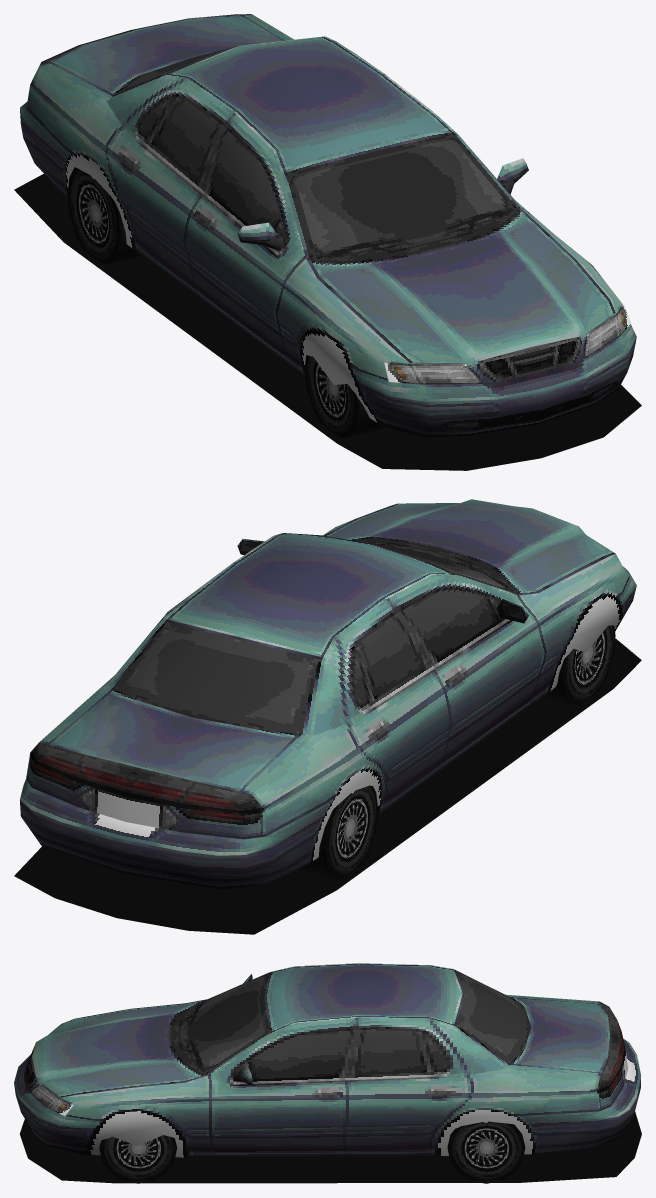
The picture shows the model from 3 angles, top to bottom: view 1: azimuth 30°, elevation 25°; view 2: azimuth 150°, elevation 25°; view 3: azimuth 270°, elevation 25°; orthographic projection. The views are drawn at different scales.
Visible parts, largest first — view 1: DA_PS1.004_2, Plane_0, Wheel_DA_PS1_RR_6, Wheel_DA_PS1_FR_4, DA_Misc_PS1.002_1; view 2: DA_PS1.004_2, Plane_0, Wheel_DA_PS1_RR_6, Wheel_DA_PS1_FR_4; view 3: DA_PS1.004_2, Plane_0, Wheel_DA_PS1_RL_5, Wheel_DA_PS1_FL_3, DA_Misc_PS1.002_1.
Boxes of the visible parts, x1,y1,x2,y2 form: DA_PS1.004_2: [20, 14, 636, 437]; Plane_0: [14, 174, 641, 470]; Wheel_DA_PS1_RR_6: [67, 167, 141, 264]; Wheel_DA_PS1_FR_4: [304, 355, 384, 438]; DA_Misc_PS1.002_1: [384, 305, 630, 384]; DA_PS1.004_2: [20, 499, 636, 889]; Plane_0: [14, 638, 641, 934]; Wheel_DA_PS1_RR_6: [299, 785, 378, 879]; Wheel_DA_PS1_FR_4: [543, 625, 615, 706]; DA_PS1.004_2: [14, 963, 640, 1157]; Plane_0: [20, 1111, 641, 1183]; Wheel_DA_PS1_RL_5: [447, 1121, 525, 1183]; Wheel_DA_PS1_FL_3: [99, 1135, 176, 1183]; DA_Misc_PS1.002_1: [30, 1084, 73, 1115].
Size of the model in its own units: 2.12 by 1.45 by 5.43.
Materials: 1 (1 with a texture image).
